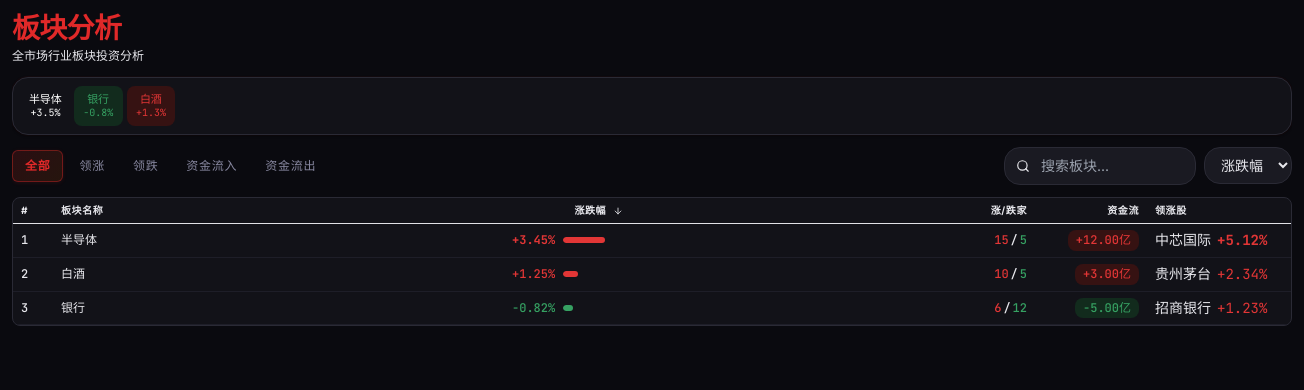
SectorStockRankPage — Sector Analysis › Table Content › shows "未找到匹配板块" when search matches nothing
Type "zzz_not_found" into the field with placeholder "搜索板块...". click: point(1100, 166)
box: [1004, 147, 1196, 185]
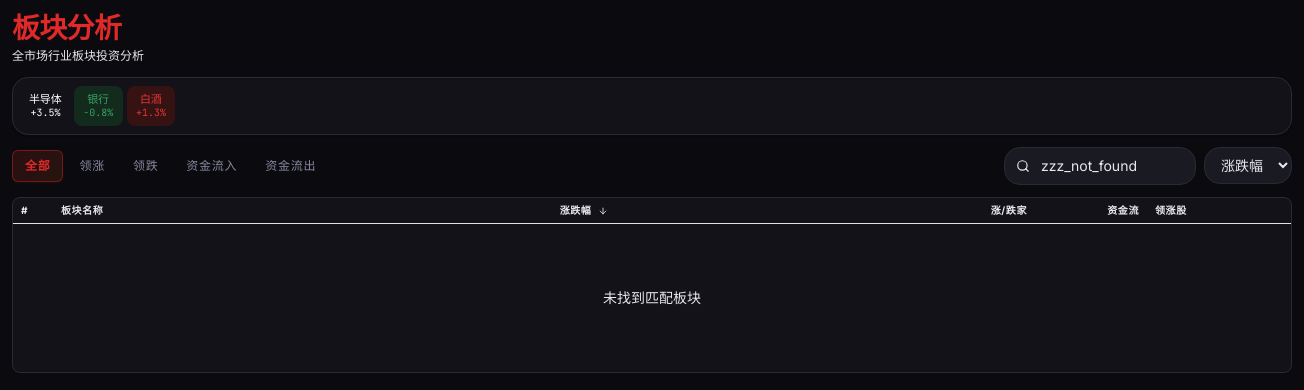
Check: the text "未找到匹配板块" is shown, box [13, 224, 1291, 372]
